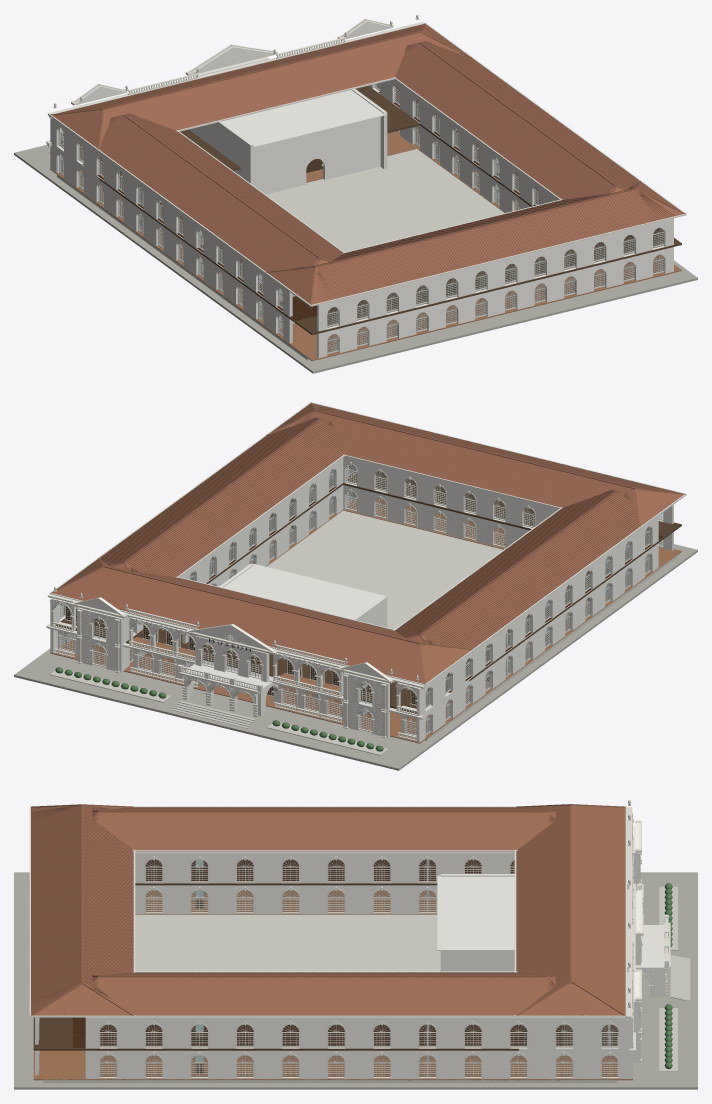
The model's file is museum.glb.
3 renders of one model, top to bottom at view 1: azimuth 30°, elevation 25°; view 2: azimuth 150°, elevation 25°; view 3: azimuth 270°, elevation 25°, orthographic. The views are drawn at different scales.
Visible parts, largest first — view 1: Roof / museum hipped wings / Terracotta, Museum / side and rear wall shells / White plaster, Roof / museum tile courses / Terracotta, Museum / foundations and forecourt / Limestone, Museum / foundations and forecourt / Paving, Interior / museum entrance and stair hall / White plaster, Museum / side and rear wall shells / Glass shade, Museum / upper floor slabs around stair void / Timber, Museum / ground floor slabs / Ochre tile, Museum / side and rear wall shells / Ivory.001, Roof / museum hipped wings / Ivory, Museum / side and rear wall shells / Ivory (+5 smaller); view 2: Roof / museum hipped wings / Terracotta, Roof / museum tile courses / Terracotta, Museum / side and rear wall shells / White plaster, Museum / foundations and forecourt / Limestone, Museum / foundations and forecourt / Paving, Museum / ground floor slabs / Ochre tile, Museum / upper floor slabs around stair void / Timber, Museum / side and rear wall shells / Ivory, Museum / side and rear wall shells / Glass shade, Museum / facade openings / White plaster, Roof / museum coffered interior ceilings / White plaster, Museum / facade openings / Ivory (+18 smaller); view 3: Roof / museum hipped wings / Terracotta, Museum / side and rear wall shells / White plaster, Roof / museum tile courses / Terracotta, Museum / foundations and forecourt / Limestone, Museum / foundations and forecourt / Paving, Museum / side and rear wall shells / Glass shade, Museum / ground floor slabs / Ochre tile, Museum / side and rear wall shells / Ivory, Museum / side and rear wall shells / Ivory.001, Interior / museum upper timber floors and verandas / Wood po, Roof / museum hipped wings / Ivory, Roof / museum coffered interior ceilings / White plaster (+9 smaller).
Boxes of the visible parts, bbox=[...] form: Roof / museum hipped wings / Terracotta: bbox=[51, 23, 685, 304]; Museum / side and rear wall shells / White plaster: bbox=[50, 79, 673, 357]; Roof / museum tile courses / Terracotta: bbox=[74, 40, 674, 302]; Museum / foundations and forecourt / Limestone: bbox=[57, 149, 504, 360]; Museum / foundations and forecourt / Paving: bbox=[14, 144, 697, 373]; Interior / museum entrance and stair hall / White plaster: bbox=[189, 88, 387, 194]; Museum / side and rear wall shells / Glass shade: bbox=[59, 83, 663, 352]; Museum / upper floor slabs around stair void / Timber: bbox=[60, 83, 681, 334]; Museum / ground floor slabs / Ochre tile: bbox=[50, 126, 681, 360]; Museum / side and rear wall shells / Ivory.001: bbox=[59, 83, 663, 352]; Roof / museum hipped wings / Ivory: bbox=[49, 23, 686, 306]; Museum / side and rear wall shells / Ivory: bbox=[58, 83, 664, 353]; Roof / museum hipped wings / Terracotta: bbox=[51, 402, 685, 684]; Roof / museum tile courses / Terracotta: bbox=[74, 405, 675, 667]; Museum / side and rear wall shells / White plaster: bbox=[50, 456, 673, 742]; Museum / foundations and forecourt / Limestone: bbox=[266, 510, 677, 740]; Museum / foundations and forecourt / Paving: bbox=[14, 541, 697, 770]; Museum / ground floor slabs / Ochre tile: bbox=[50, 491, 681, 743]; Museum / upper floor slabs around stair void / Timber: bbox=[56, 471, 681, 713]; Museum / side and rear wall shells / Ivory: bbox=[59, 462, 664, 735]; Museum / side and rear wall shells / Glass shade: bbox=[60, 465, 662, 733]; Museum / facade openings / White plaster: bbox=[58, 622, 416, 733]; Roof / museum coffered interior ceilings / White plaster: bbox=[223, 564, 386, 618]; Museum / facade openings / Ivory: bbox=[51, 622, 418, 741]; Roof / museum hipped wings / Terracotta: bbox=[30, 804, 625, 1015]; Museum / side and rear wall shells / White plaster: bbox=[35, 812, 632, 1078]; Roof / museum tile courses / Terracotta: bbox=[31, 805, 574, 1015]; Museum / foundations and forecourt / Limestone: bbox=[43, 914, 616, 1082]; Museum / foundations and forecourt / Paving: bbox=[14, 872, 697, 1089]; Museum / side and rear wall shells / Glass shade: bbox=[100, 860, 617, 1076]; Museum / ground floor slabs / Ochre tile: bbox=[33, 890, 632, 1080]; Museum / side and rear wall shells / Ivory: bbox=[38, 856, 619, 1079]; Museum / side and rear wall shells / Ivory.001: bbox=[100, 860, 618, 1077]; Interior / museum upper timber floors and verandas / Wood po: bbox=[72, 859, 561, 1047]; Roof / museum hipped wings / Ivory: bbox=[29, 806, 626, 1017]; Roof / museum coffered interior ceilings / White plaster: bbox=[437, 875, 514, 950].
Size of the model in its own units: 78 by 15.69 by 105.
